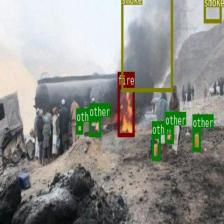fire: (117, 85, 134, 136)
smoke: (120, 0, 172, 91), (204, 0, 222, 22)
